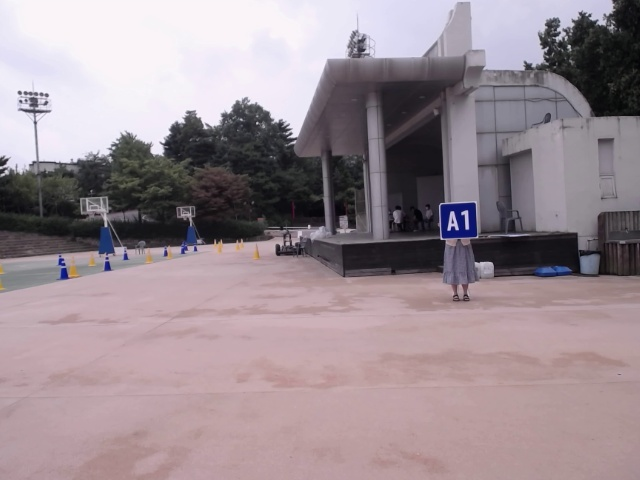delivery_a1: (440, 202, 479, 240)
